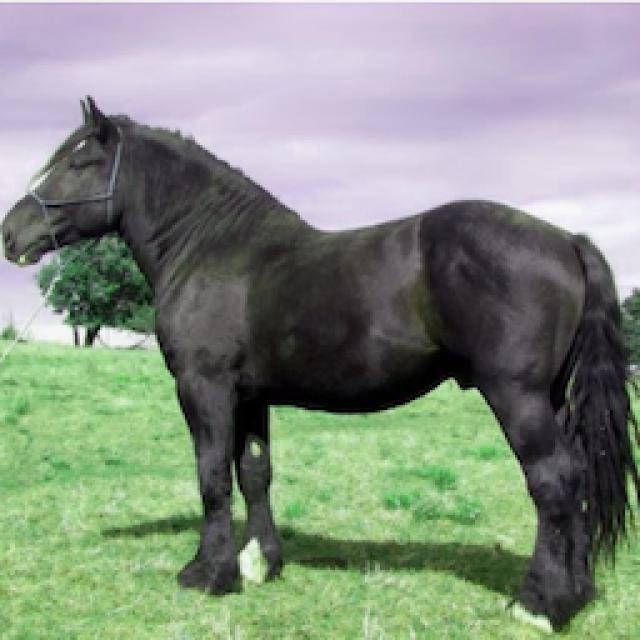Horse: (2, 90, 640, 635)
